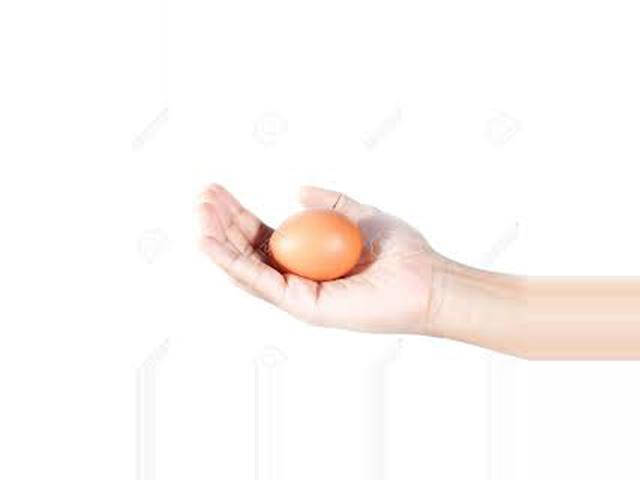egg: (270, 210, 361, 279)
